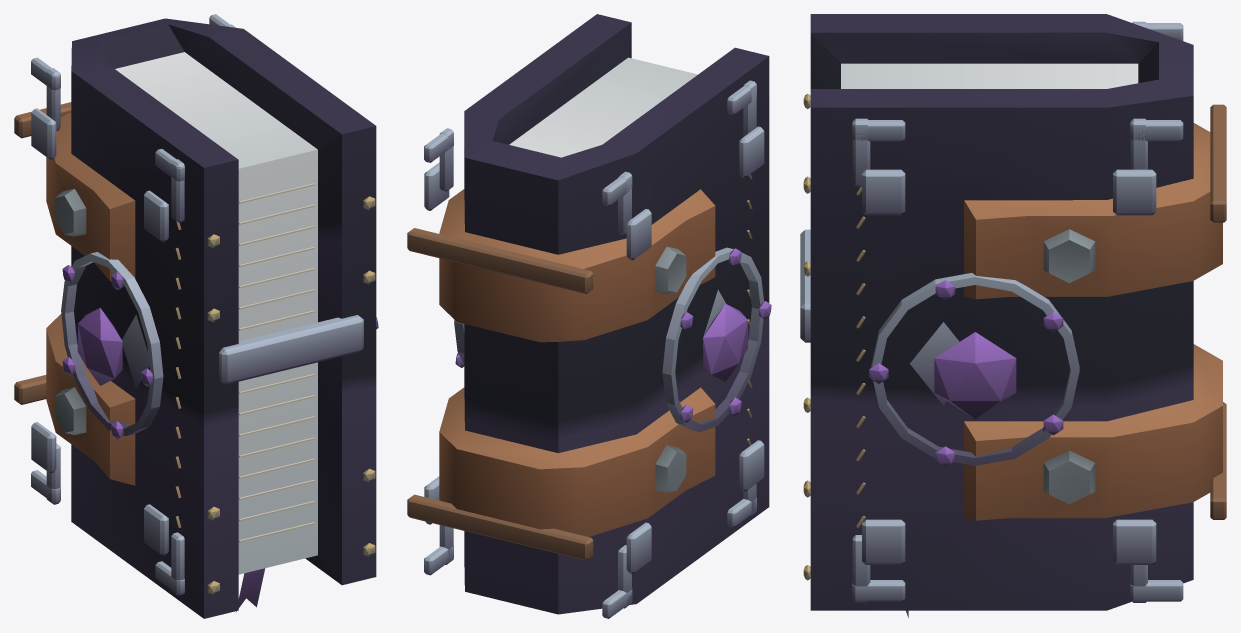
Rendered from grimorio_runico_t3.glb.
3 views of the same model, side by side, from view 1: azimuth 30°, elevation 25°; view 2: azimuth 150°, elevation 25°; view 3: azimuth 270°, elevation 25° (orthographic). The views are drawn at different scales.
Visible parts, largest first — view 1: grimorio_runico_t3_finished; view 2: grimorio_runico_t3_finished; view 3: grimorio_runico_t3_finished.
Boxes of the visible parts, x1=… form: grimorio_runico_t3_finished: x1=14, y1=14, x2=378, y2=618; grimorio_runico_t3_finished: x1=407, y1=14, x2=771, y2=618; grimorio_runico_t3_finished: x1=800, y1=14, x2=1226, y2=617.
Size of the model in its own units: 0.3458 by 0.6315 by 0.442.
Materials: 2 (2 with a texture image).
